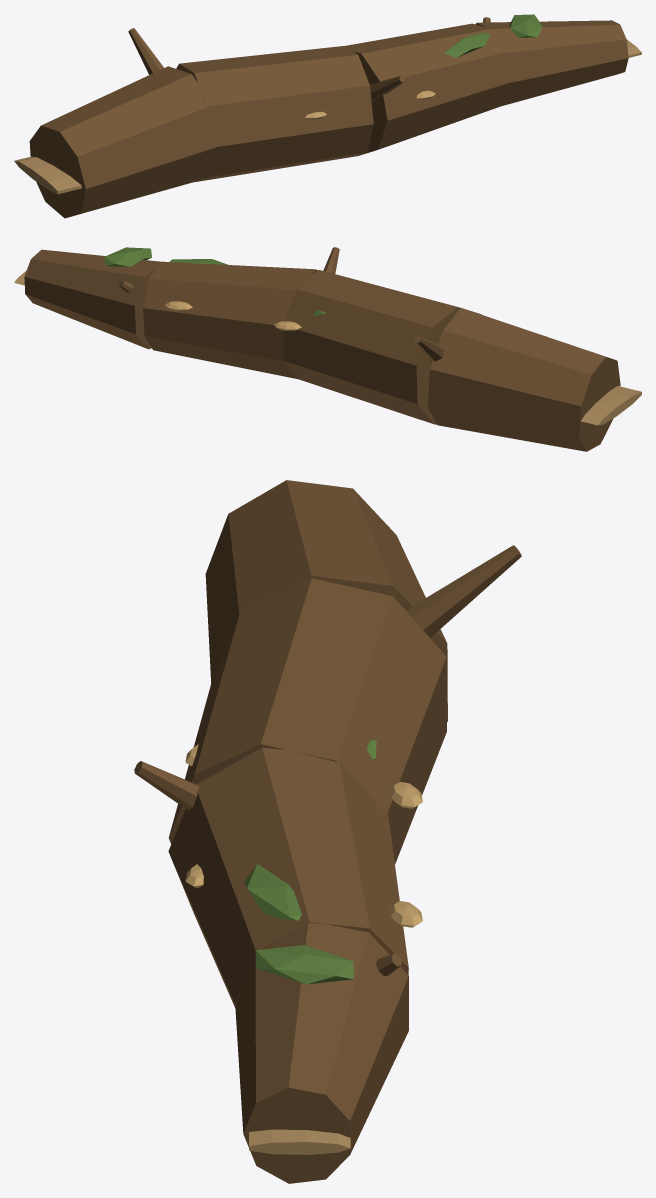
File: forest_deadwood_cluster_v1.glb
The picture shows the model from 3 angles, top to bottom: view 1: azimuth 30°, elevation 25°; view 2: azimuth 150°, elevation 25°; view 3: azimuth 270°, elevation 25°; orthographic projection. The views are drawn at different scales.
Visible parts, largest first — view 1: DeadwoodBark, DeadwoodEnds, DeadwoodMoss, DeadwoodBranches; view 2: DeadwoodBark, DeadwoodEnds, DeadwoodMoss, DeadwoodBranches, DeadwoodFungi; view 3: DeadwoodBark, DeadwoodBranches, DeadwoodMoss, DeadwoodEnds, DeadwoodFungi.
Boxes of the visible parts, <box> form: DeadwoodBark: <box>29,20,628,218</box>; DeadwoodEnds: <box>14,39,641,194</box>; DeadwoodMoss: <box>444,14,542,57</box>; DeadwoodBranches: <box>128,17,490,101</box>; DeadwoodBark: <box>24,249,620,451</box>; DeadwoodEnds: <box>14,271,641,425</box>; DeadwoodMoss: <box>104,247,325,315</box>; DeadwoodBranches: <box>119,247,444,362</box>; DeadwoodFungi: <box>165,301,301,330</box>; DeadwoodBark: <box>168,480,447,1183</box>; DeadwoodBranches: <box>134,545,521,975</box>; DeadwoodMoss: <box>244,740,376,984</box>; DeadwoodEnds: <box>249,1129,350,1154</box>; DeadwoodFungi: <box>185,744,422,927</box>.
Bounding box in the file's own units: 4.7 × 0.9186 × 1.33.
